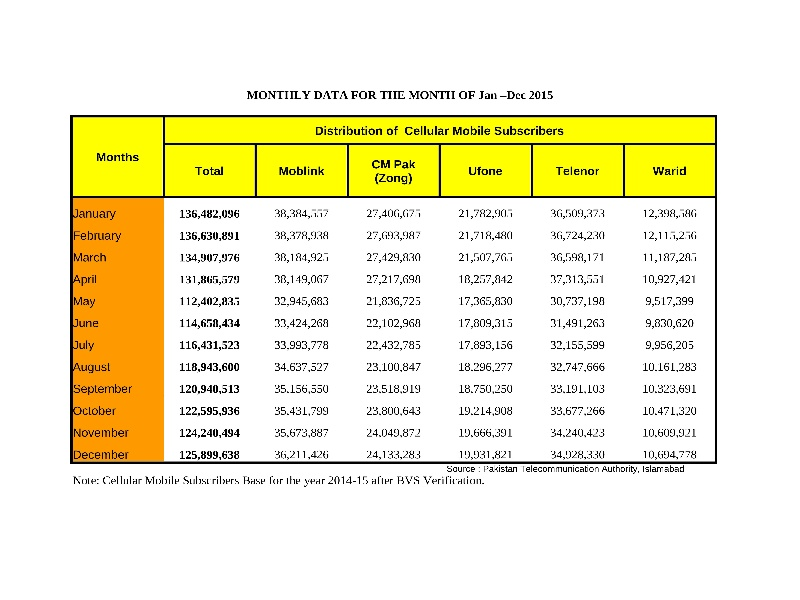borderless: (70, 115, 719, 464)
cell: (311, 120, 568, 140), (368, 153, 423, 187), (175, 270, 242, 288), (177, 292, 244, 310), (455, 291, 515, 310), (72, 380, 135, 398), (177, 358, 242, 375), (273, 268, 331, 287), (176, 336, 244, 352), (177, 380, 241, 397), (364, 292, 424, 310), (363, 335, 423, 353), (364, 381, 427, 398), (175, 316, 246, 331), (72, 224, 125, 244), (179, 248, 241, 265), (457, 382, 522, 398), (271, 336, 332, 353), (178, 205, 242, 221), (178, 403, 242, 419), (177, 425, 241, 441), (272, 204, 332, 221), (548, 249, 608, 266), (361, 250, 424, 266), (176, 448, 243, 463), (456, 336, 515, 353), (548, 271, 607, 288), (639, 359, 698, 376), (71, 424, 133, 440), (270, 359, 332, 375), (361, 271, 423, 287), (363, 424, 425, 440), (272, 294, 333, 310), (362, 228, 423, 244), (364, 403, 425, 419), (546, 404, 607, 420), (551, 160, 602, 179), (364, 315, 424, 331), (548, 205, 608, 221), (274, 161, 327, 179), (641, 315, 697, 332), (178, 228, 241, 243), (271, 251, 334, 266), (272, 315, 331, 331), (457, 358, 516, 374), (273, 228, 335, 243), (547, 228, 609, 243), (457, 228, 515, 244), (272, 403, 333, 418), (363, 446, 424, 461), (548, 338, 609, 353), (456, 272, 516, 287), (456, 315, 515, 330), (457, 448, 516, 463), (640, 271, 699, 286), (641, 382, 700, 397), (362, 360, 425, 374), (457, 206, 515, 221), (549, 424, 607, 439), (641, 425, 699, 440), (362, 206, 424, 220), (455, 251, 517, 265), (639, 251, 701, 265), (72, 447, 133, 461), (271, 382, 332, 396), (548, 448, 609, 462), (640, 229, 701, 243), (273, 425, 333, 439), (92, 148, 141, 165), (271, 447, 330, 461), (548, 316, 607, 330), (72, 205, 120, 222), (548, 295, 606, 309), (641, 403, 699, 417), (639, 449, 701, 462), (71, 403, 121, 419), (457, 427, 514, 441), (462, 161, 506, 179), (642, 294, 697, 308), (456, 404, 514, 417), (549, 382, 607, 395), (643, 206, 700, 219), (643, 339, 697, 352), (549, 361, 607, 373), (71, 359, 114, 375), (72, 248, 111, 265), (647, 164, 691, 179), (192, 161, 227, 179), (71, 313, 101, 332), (70, 291, 100, 309), (70, 271, 100, 288), (73, 336, 103, 353)
